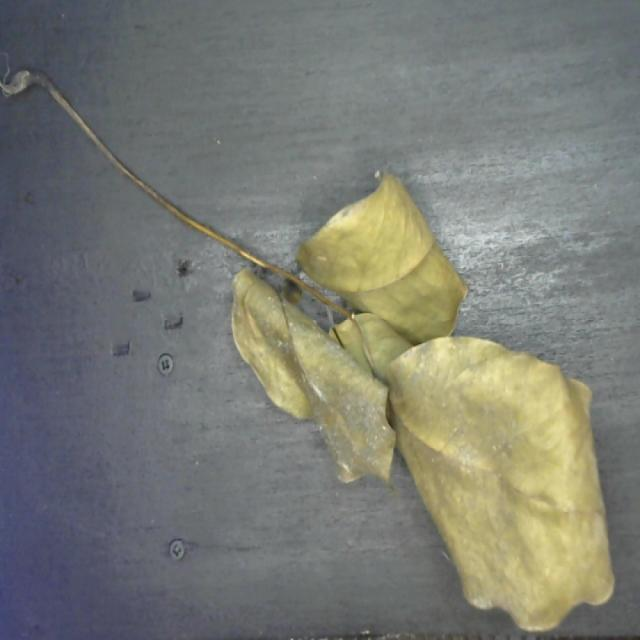biodegradable: (225, 164, 620, 640)
